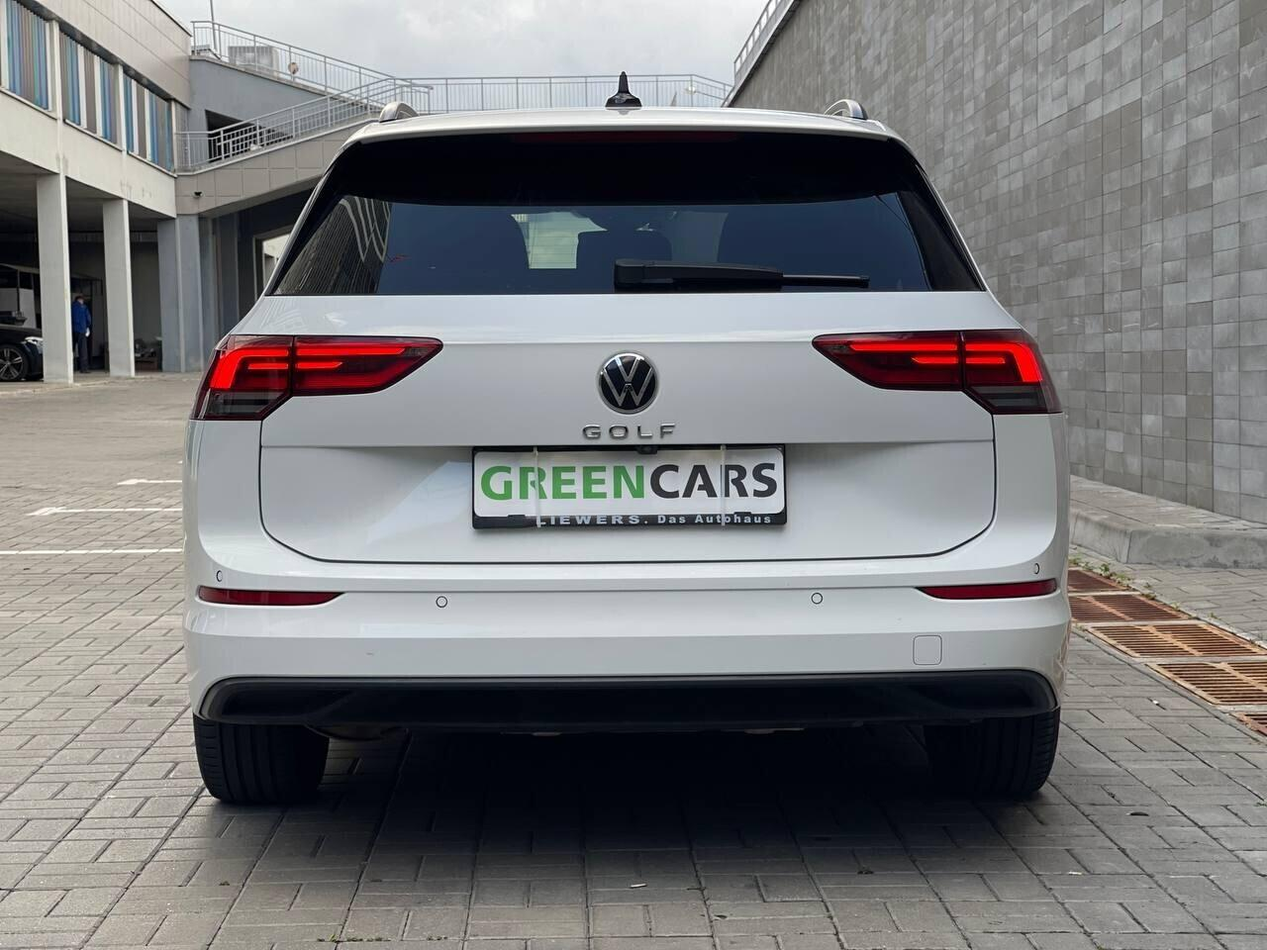Golf_2019: (178, 98, 1084, 831)
